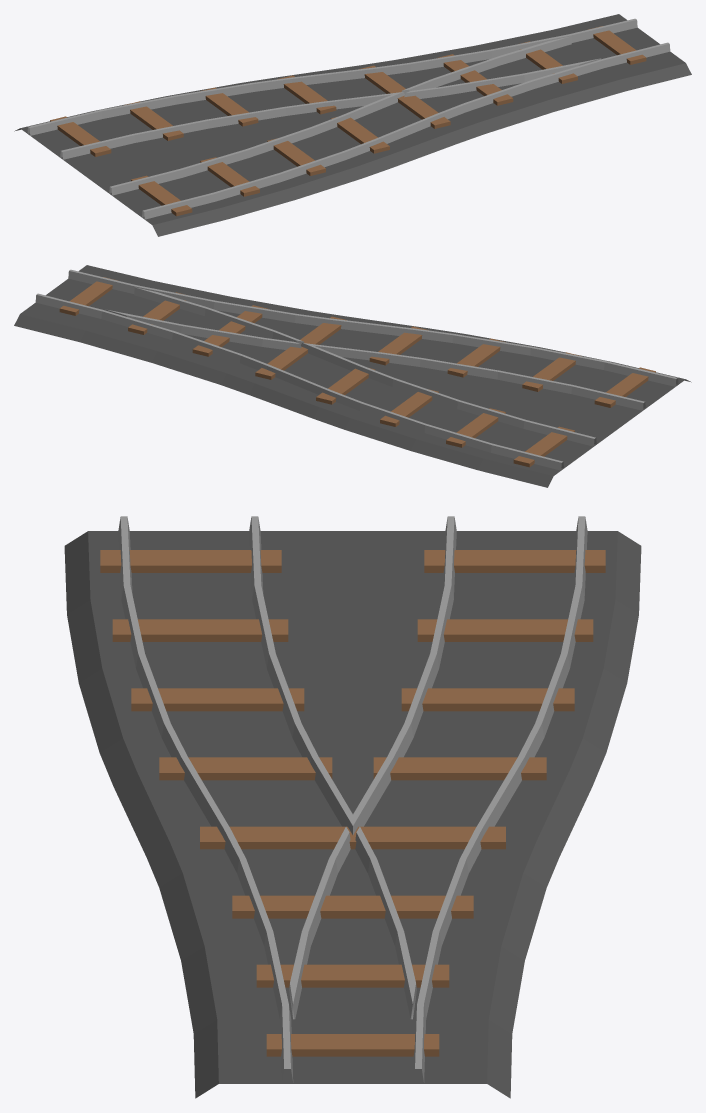
The model's file is 1-2_split_small.fbx.
3 views of the same model, one above another, from view 1: azimuth 30°, elevation 25°; view 2: azimuth 150°, elevation 25°; view 3: azimuth 270°, elevation 25° (orthographic). The views are drawn at different scales.
Parts seen in each view (by area): view 1: 1-2_split_small; view 2: 1-2_split_small; view 3: 1-2_split_small.
Boxes of the visible parts, x1,y1,x2,y2 form: 1-2_split_small: (14, 14, 691, 236); 1-2_split_small: (14, 265, 691, 487); 1-2_split_small: (64, 516, 641, 1098).
Bounding box in the file's own units: 8 × 0.2 × 3.53.
